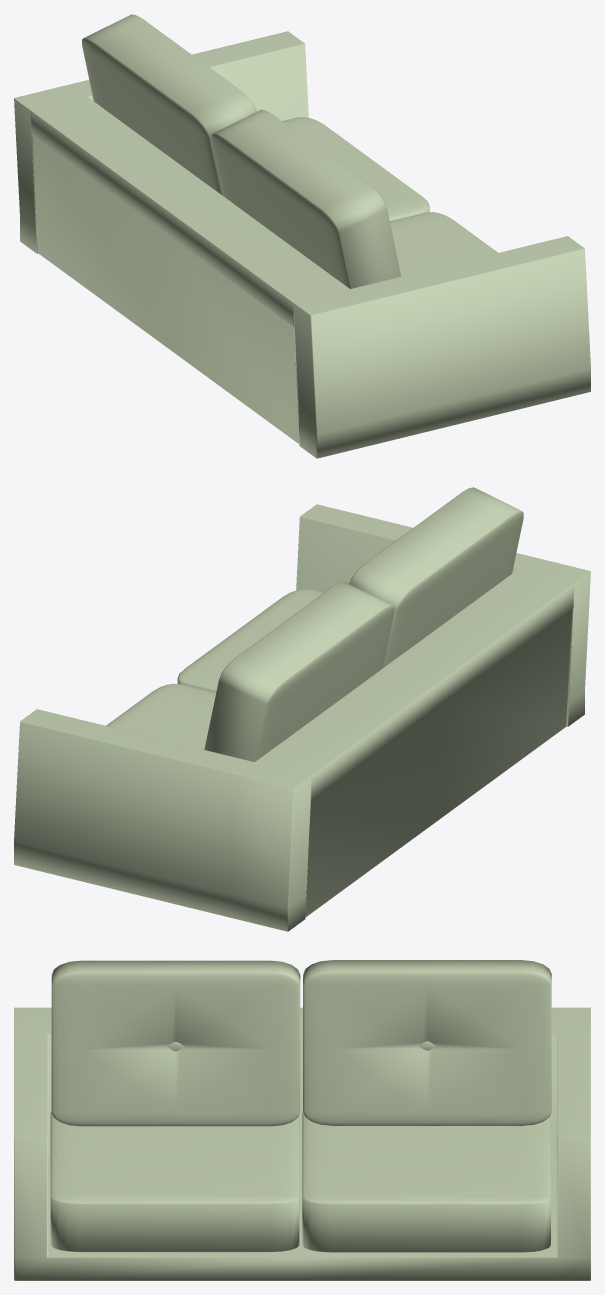
The model's file is ソファ.fbx.
3 views of the same model, one above another, from view 1: azimuth 30°, elevation 25°; view 2: azimuth 150°, elevation 25°; view 3: azimuth 270°, elevation 25° (orthographic). The views are drawn at different scales.
Visible parts, largest first — view 1: Cube, Cube.002, Cube.001; view 2: Cube, Cube.002, Cube.001; view 3: Cube.002, Cube.001, Cube.
Boxes of the visible parts, left/top/right/bottom form: Cube: left=14, top=31, right=590, bottom=458; Cube.002: left=82, top=14, right=401, bottom=288; Cube.001: left=282, top=117, right=497, bottom=276; Cube: left=14, top=504, right=590, bottom=931; Cube.002: left=204, top=487, right=523, bottom=761; Cube.001: left=106, top=589, right=323, bottom=749; Cube.002: left=51, top=960, right=551, bottom=1126; Cube.001: left=50, top=1112, right=550, bottom=1252; Cube: left=14, top=1007, right=590, bottom=1280.
Size of the model in its own units: 245 by 190 by 449.
